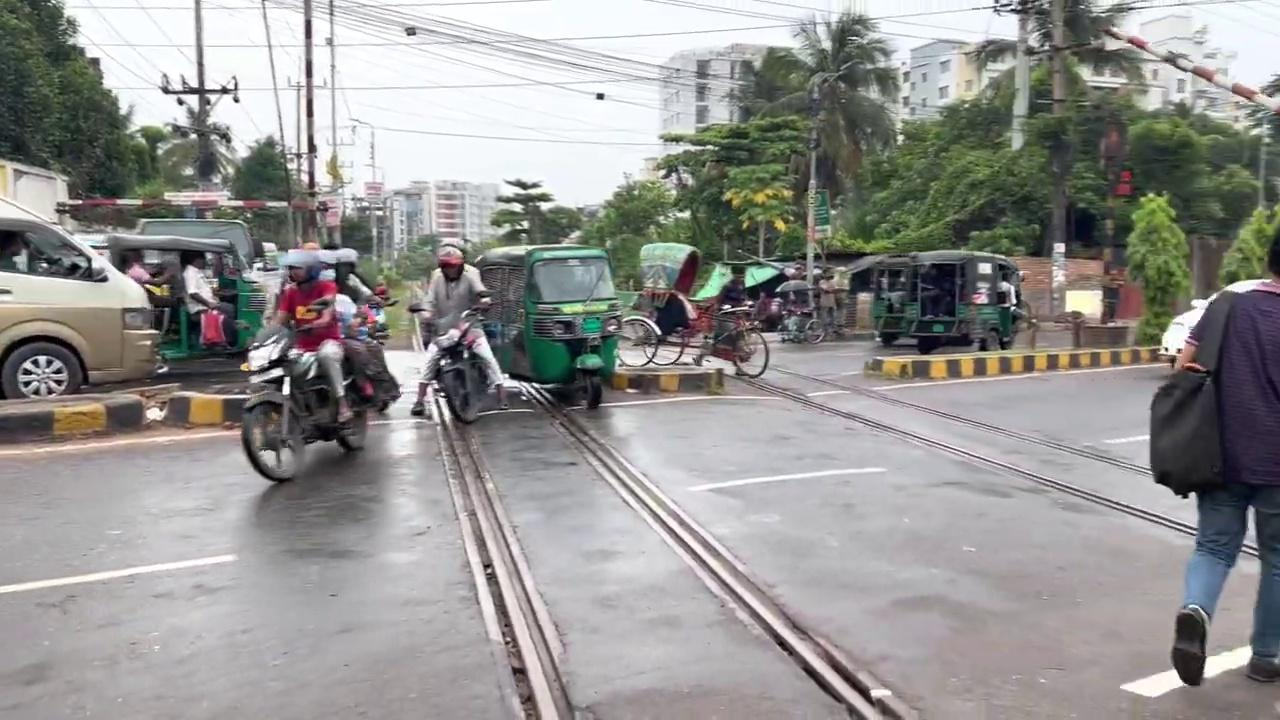Broken-road: (863, 343, 1166, 380)
Curb: (239, 296, 401, 482), (407, 298, 509, 424)
Fence: (1169, 220, 1279, 687)
Garbage: (1099, 24, 1279, 112), (302, 0, 317, 242)
Motorcycle: (723, 355, 1265, 564)
Railroad-crossing: (1123, 190, 1190, 345)
Rickshaw: (471, 242, 624, 409), (104, 218, 269, 362), (870, 249, 1027, 354)
